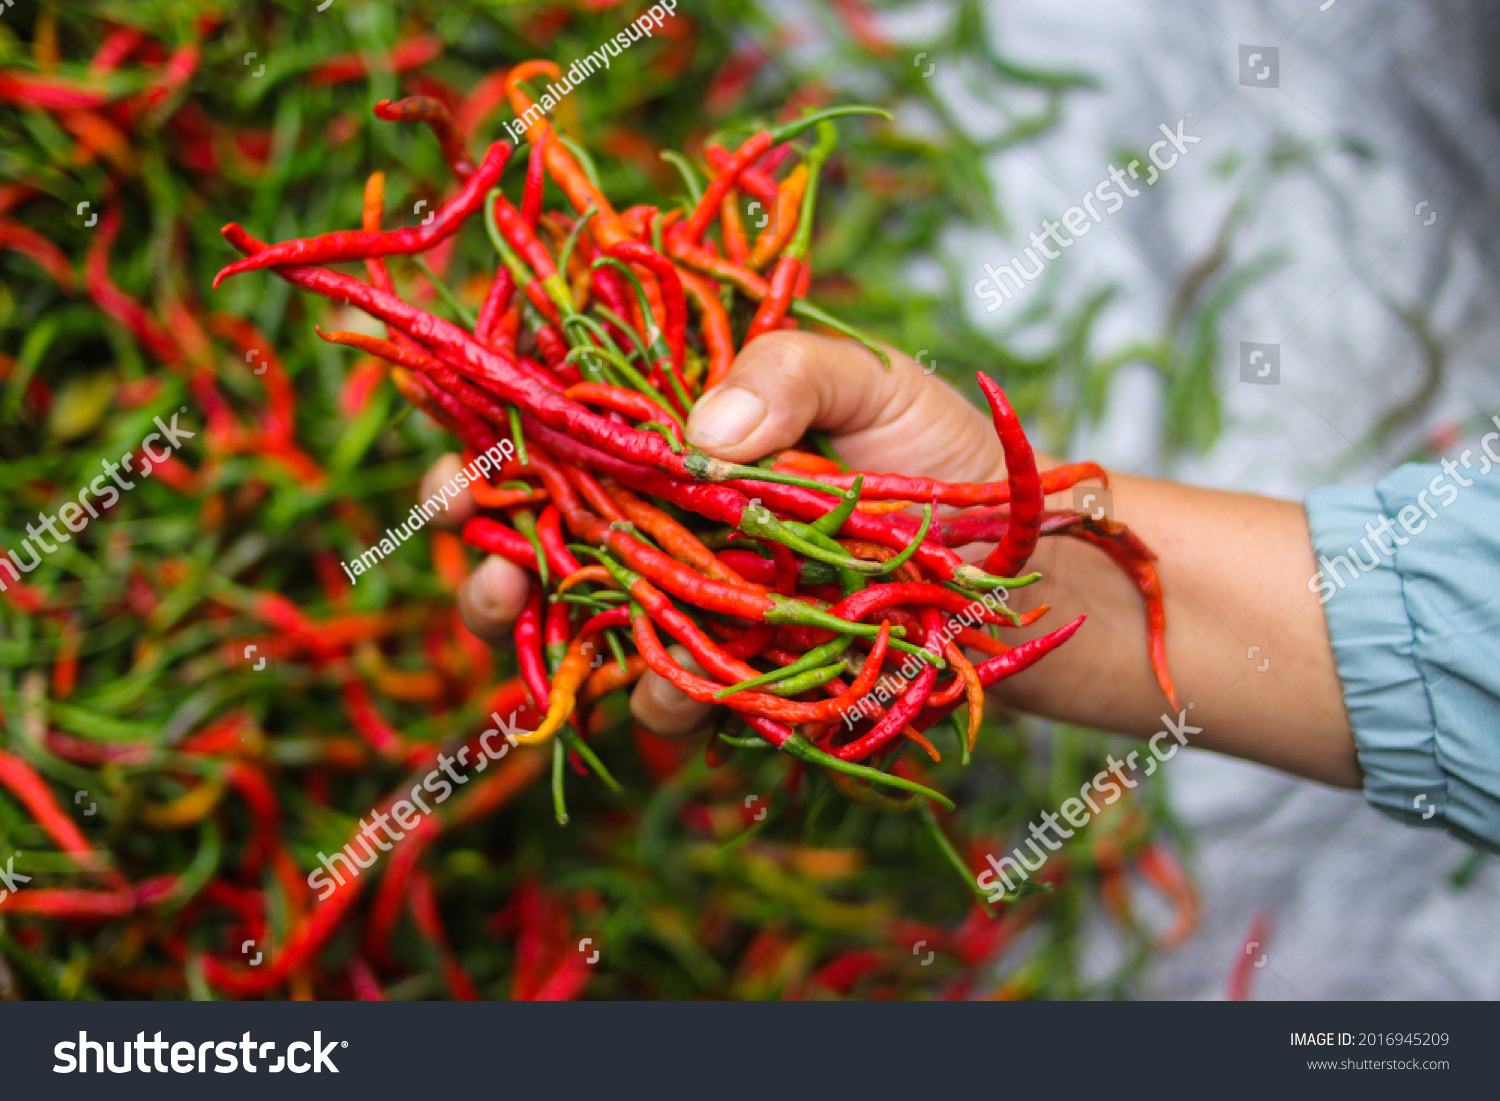Cabai: (186, 84, 1043, 840)
